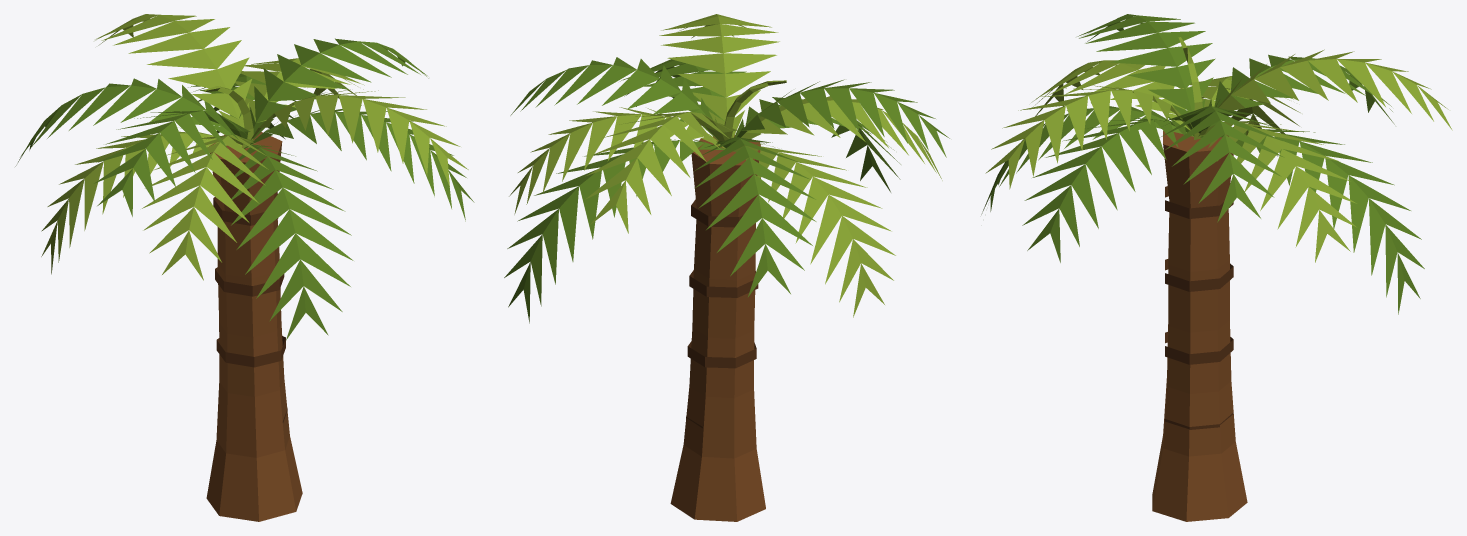
Rendered from fougere_arbre_2.glb.
3 renders of one model, left to right at view 1: azimuth 30°, elevation 25°; view 2: azimuth 150°, elevation 25°; view 3: azimuth 270°, elevation 25°, orthographic.
Visible parts, largest first — view 1: fougere_arbre_2; view 2: fougere_arbre_2; view 3: fougere_arbre_2.
Boxes of the visible parts, x1,y1,x2,y2 form: fougere_arbre_2: (15, 14, 474, 521); fougere_arbre_2: (504, 14, 949, 521); fougere_arbre_2: (981, 14, 1452, 521).
Size of the model in its own units: 3.02 by 3.29 by 3.21.
